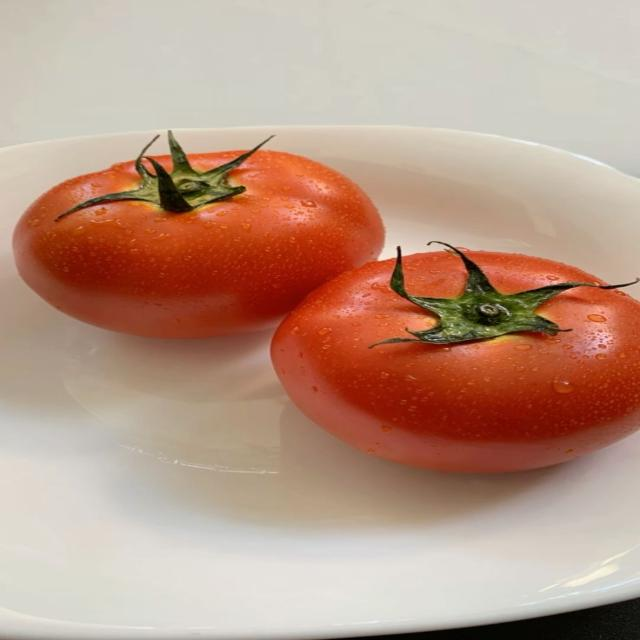tomato: (273, 252, 639, 472), (14, 134, 383, 338)
